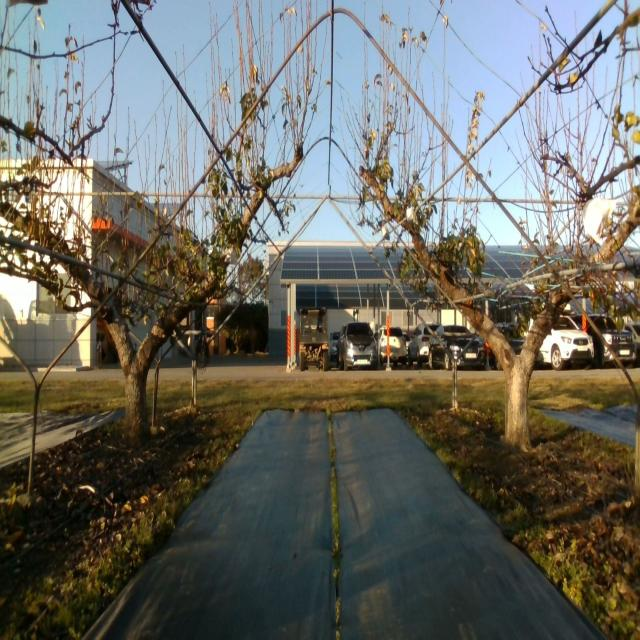pearbags: (575, 198, 617, 246), (224, 244, 237, 264)
